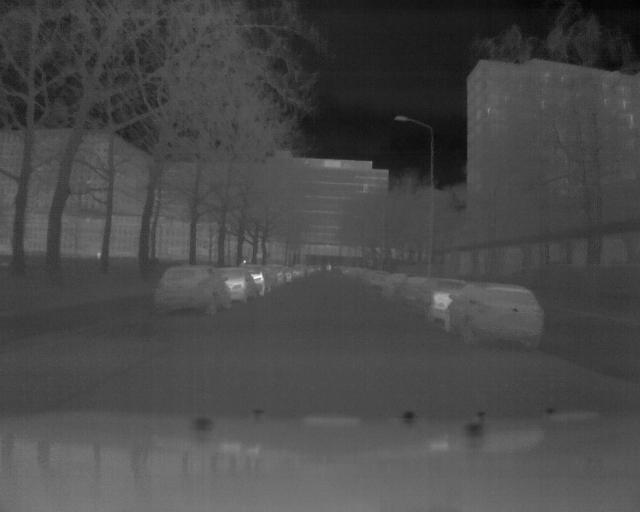car: (443, 280, 549, 350), (154, 263, 237, 315), (220, 263, 256, 304)
